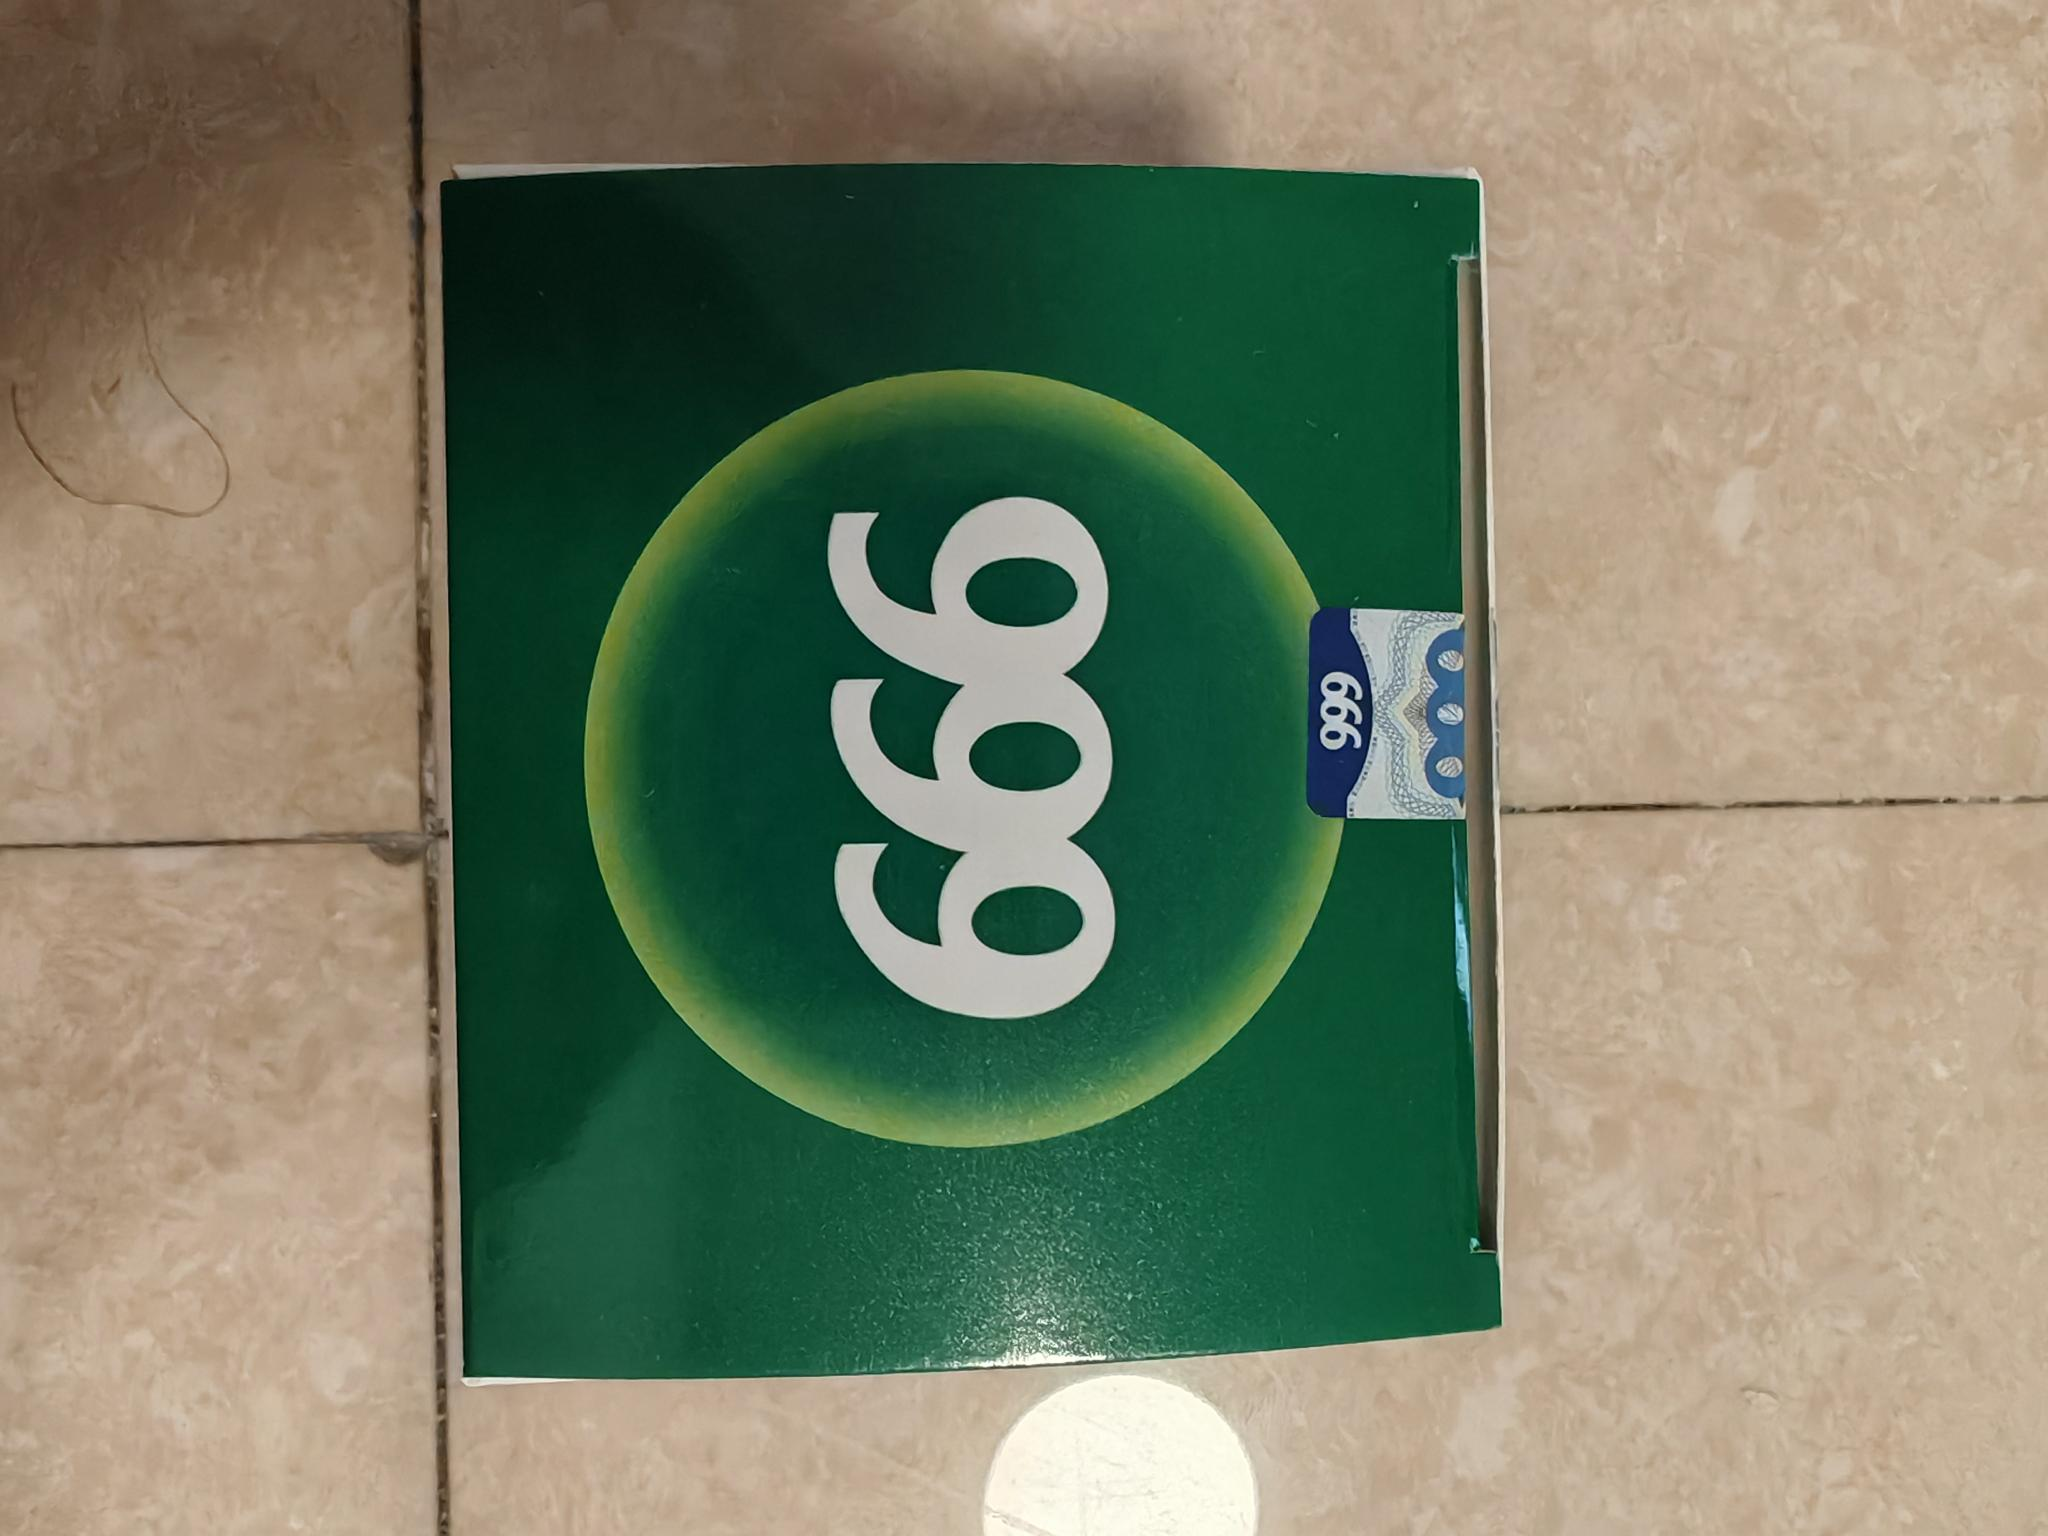Medicine3: (405, 123, 1532, 1405)
